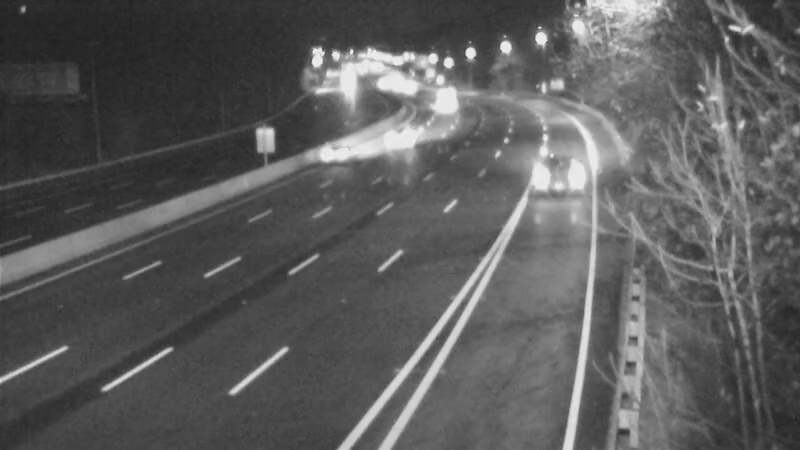vehicle: (519, 139, 599, 219), (297, 112, 377, 192), (423, 66, 473, 116), (423, 76, 473, 126), (380, 116, 430, 166)
